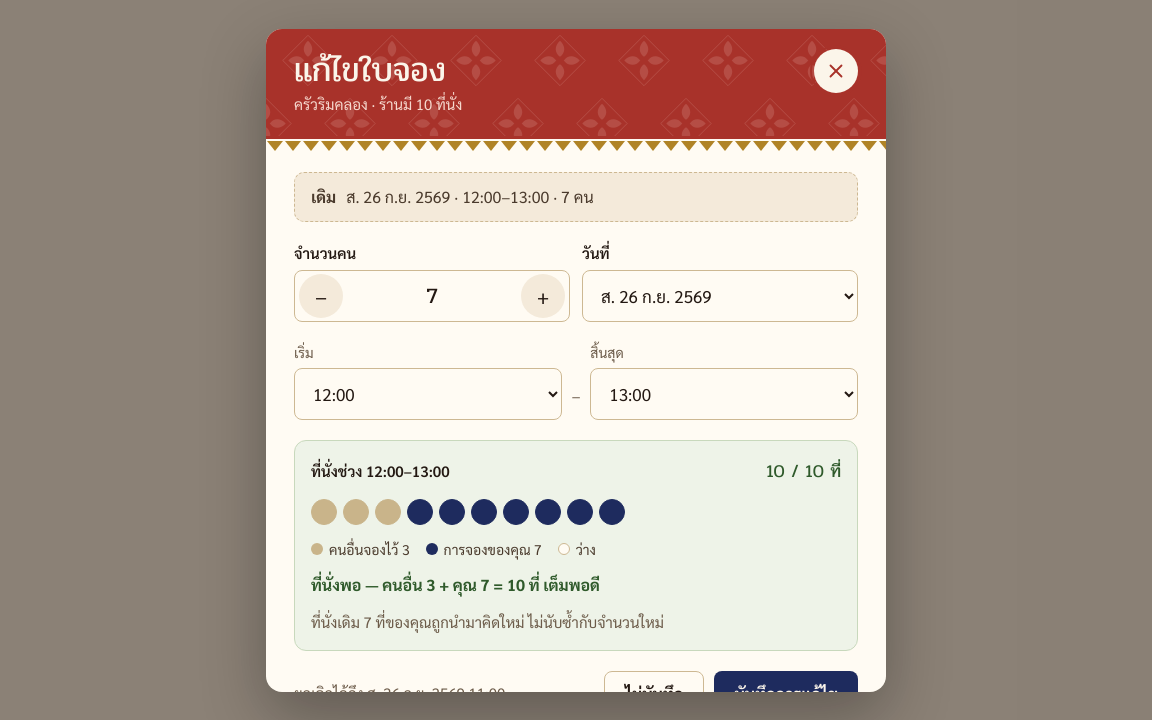
EditBookingDialog › แก้ 7 → 8 = 3 + 8 = 11 เกิน → บันทึกไม่ได้
Expected: the message shows "เต็มพอดี", 311,574 -> 600,595
Click the button named "เพิ่มจำนวนคน": (543, 296) 521,274 -> 565,318
(page scrolled)
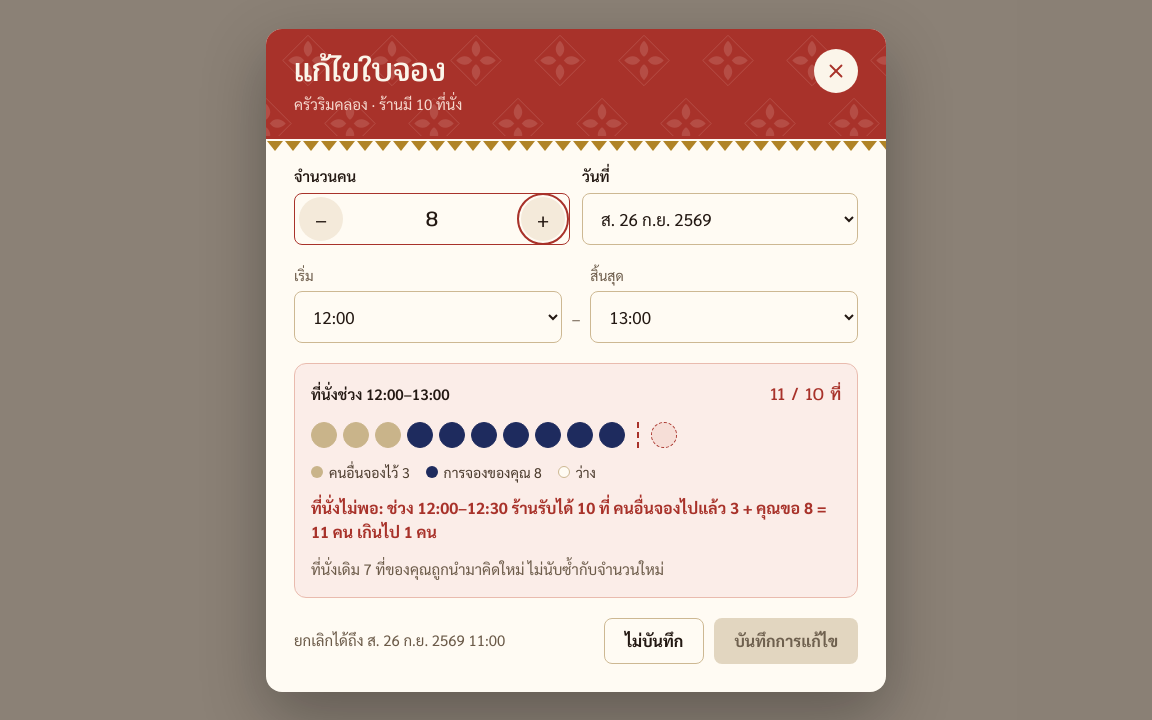
Expected: the message shows "ที่นั่งไม่พอ: ช่วง 12:00–12:30 ร้านรับได้ 10 ที่ คนอื่นจองไปแล้ว 3 + คุณขอ 8 = 11 คน เกินไป 1 คน", 311,497 -> 827,542
Expected: the text "11 / 10 ที่" is shown, 770,380 -> 841,408
Expected: the button "บันทึกการแก้ไข" is disabled, 714,618 -> 858,664
